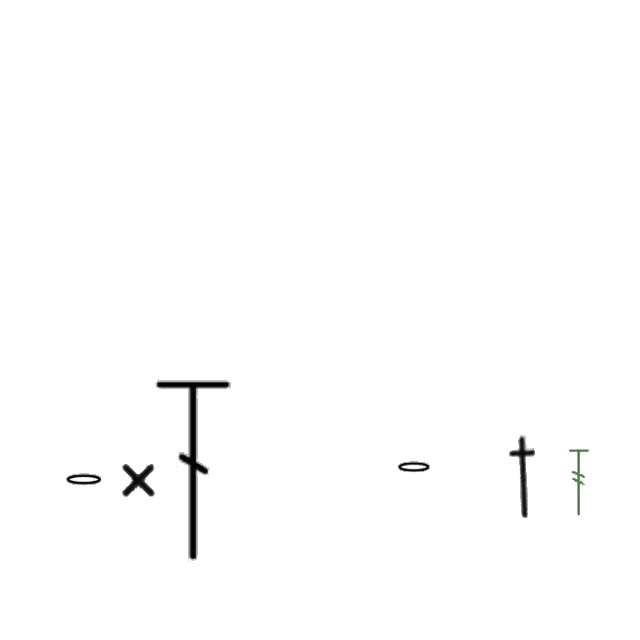chain: (153, 373, 235, 567)
double: (499, 434, 549, 520)
half_double: (566, 446, 592, 520)
slip_stitch: (120, 458, 158, 500)
treble: (63, 472, 105, 488), (395, 460, 433, 476)
